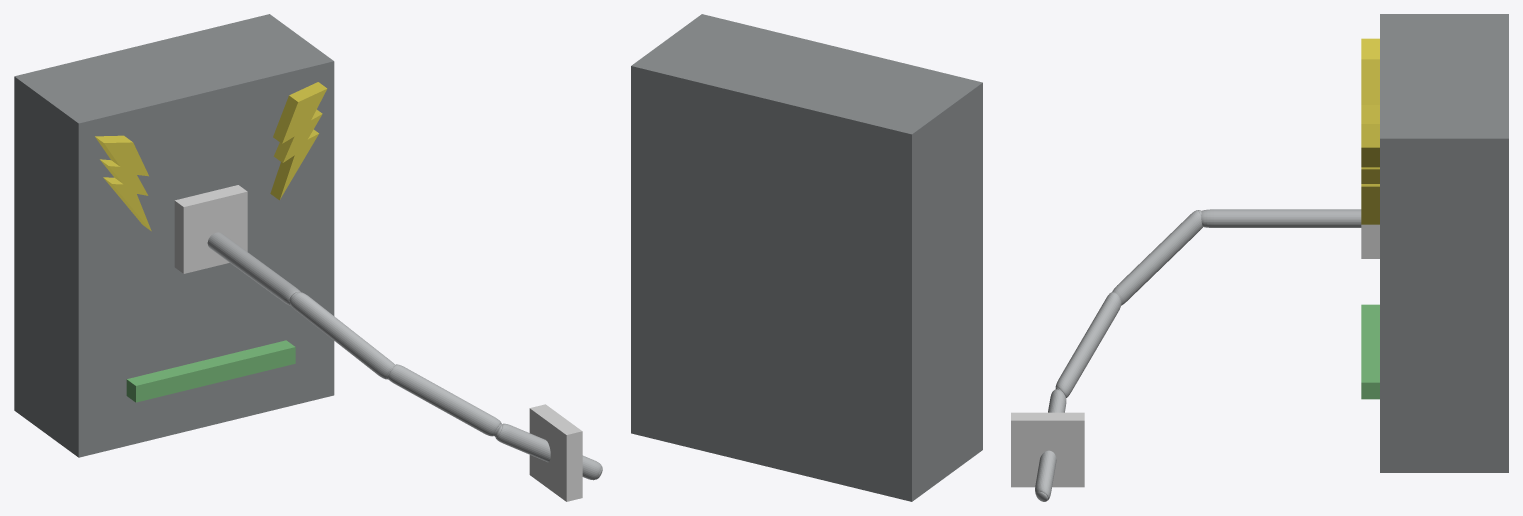
The model's file is car_charger.glb.
3 renders of one model, left to right at view 1: azimuth 30°, elevation 25°; view 2: azimuth 150°, elevation 25°; view 3: azimuth 270°, elevation 25°, orthographic. The views are drawn at different scales.
Visible parts, largest first — view 1: Mesh_Mesh_head_geo.001_lambert2SG.001; view 2: Mesh_Mesh_head_geo.001_lambert2SG.001; view 3: Mesh_Mesh_head_geo.001_lambert2SG.001.
Boxes of the visible parts, x1,y1,x2,y2 form: Mesh_Mesh_head_geo.001_lambert2SG.001: [14, 14, 602, 501]; Mesh_Mesh_head_geo.001_lambert2SG.001: [631, 14, 982, 501]; Mesh_Mesh_head_geo.001_lambert2SG.001: [1011, 14, 1508, 501].
Bounding box in the file's own units: 0.2226 × 0.2 × 0.27.
